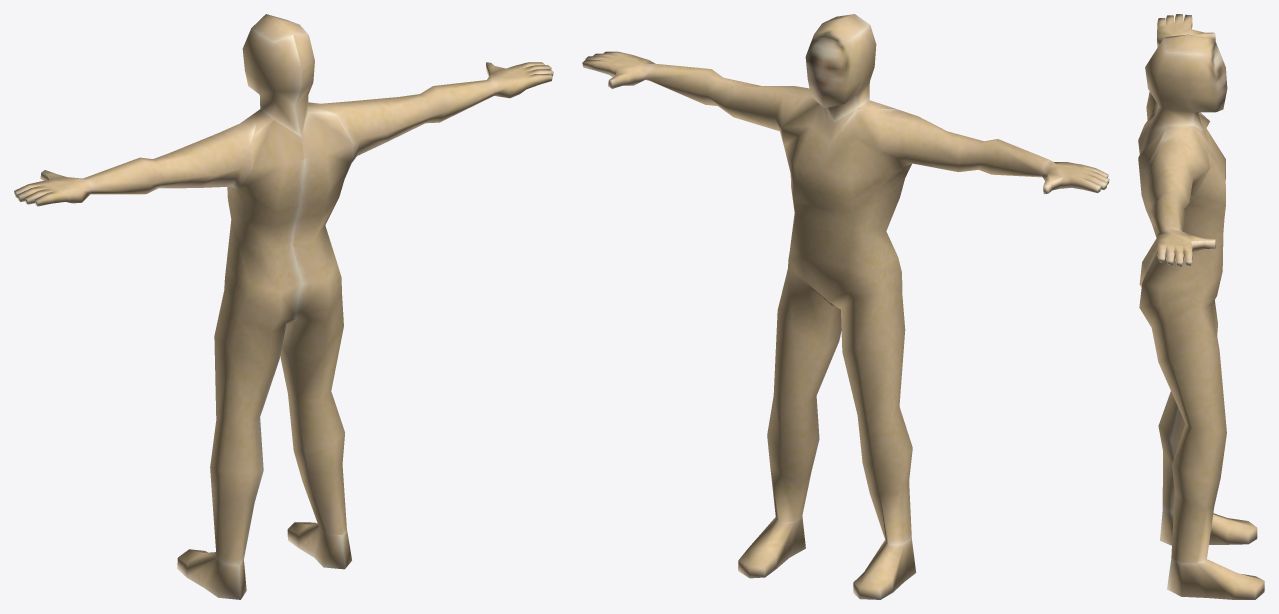
File: human_000006.obj
3 views of the same model, side by side, from view 1: azimuth 30°, elevation 25°; view 2: azimuth 150°, elevation 25°; view 3: azimuth 270°, elevation 25° (orthographic). The views are drawn at different scales.
Bounding box in the file's own units: 1.87 × 1.87 × 0.4046.
